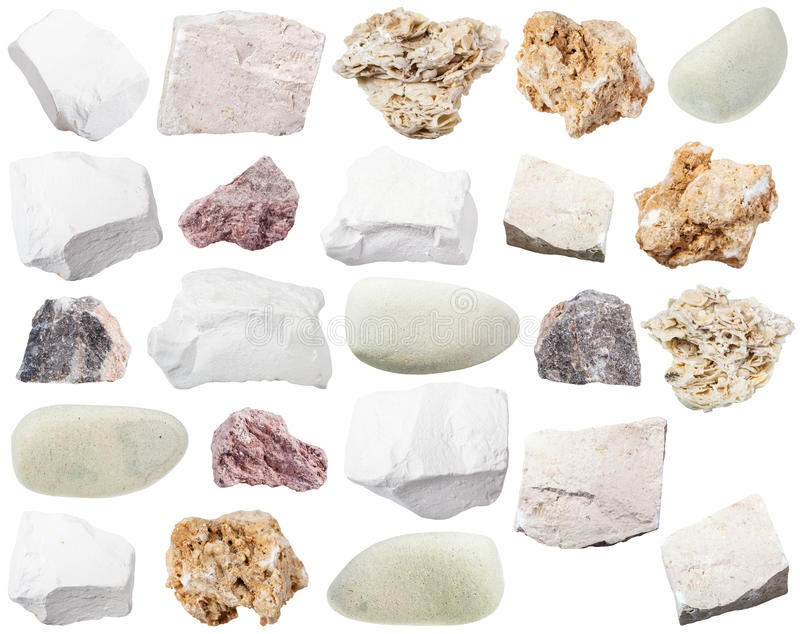obstacle: (0, 0, 799, 631)
